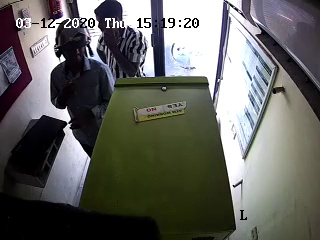helmet: (52, 19, 96, 71)
